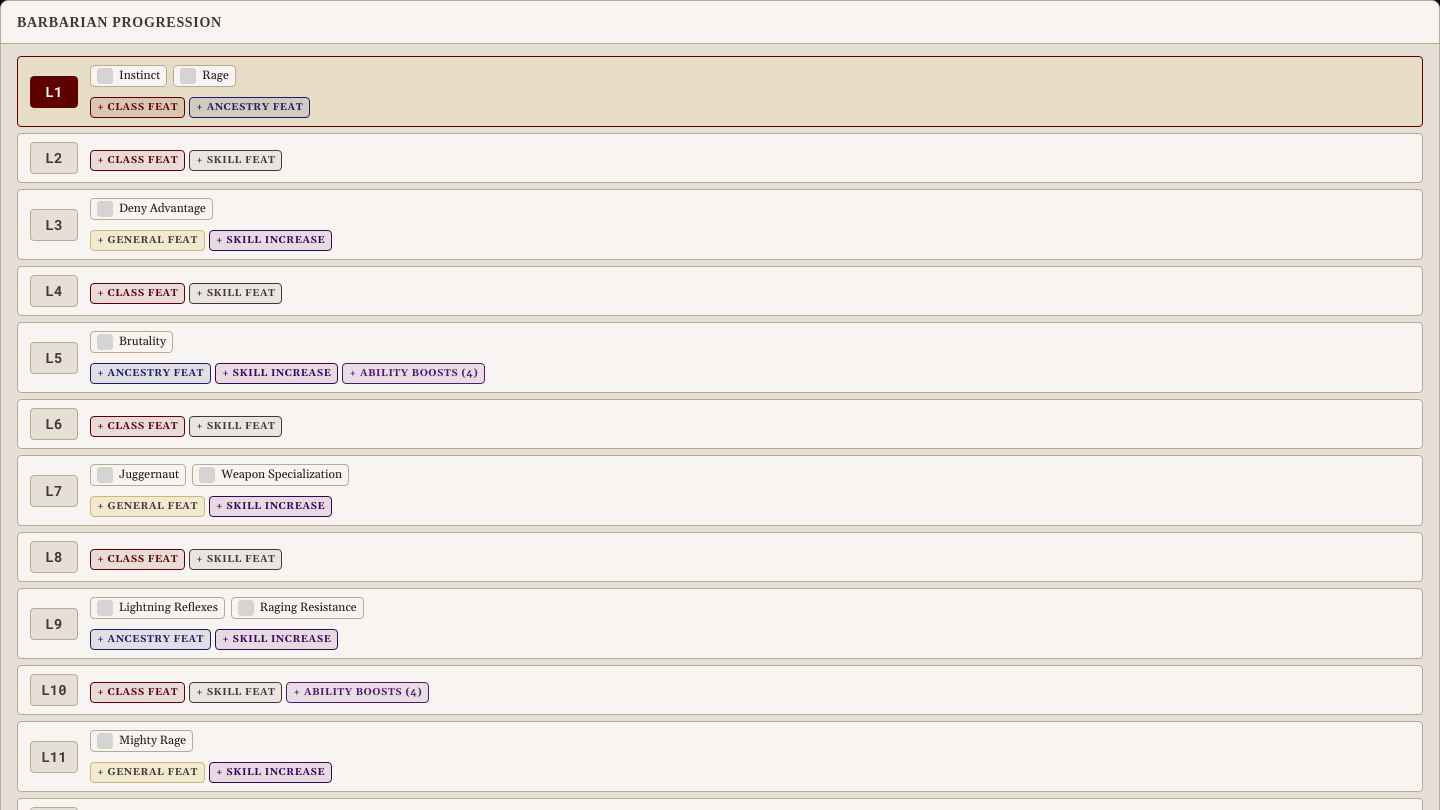
Test: Progression tab › clearing a picked feat restores the open slot chip
Click the button with test id "slot-open-picker".
click(138, 108)  # box [90,97,185,118]
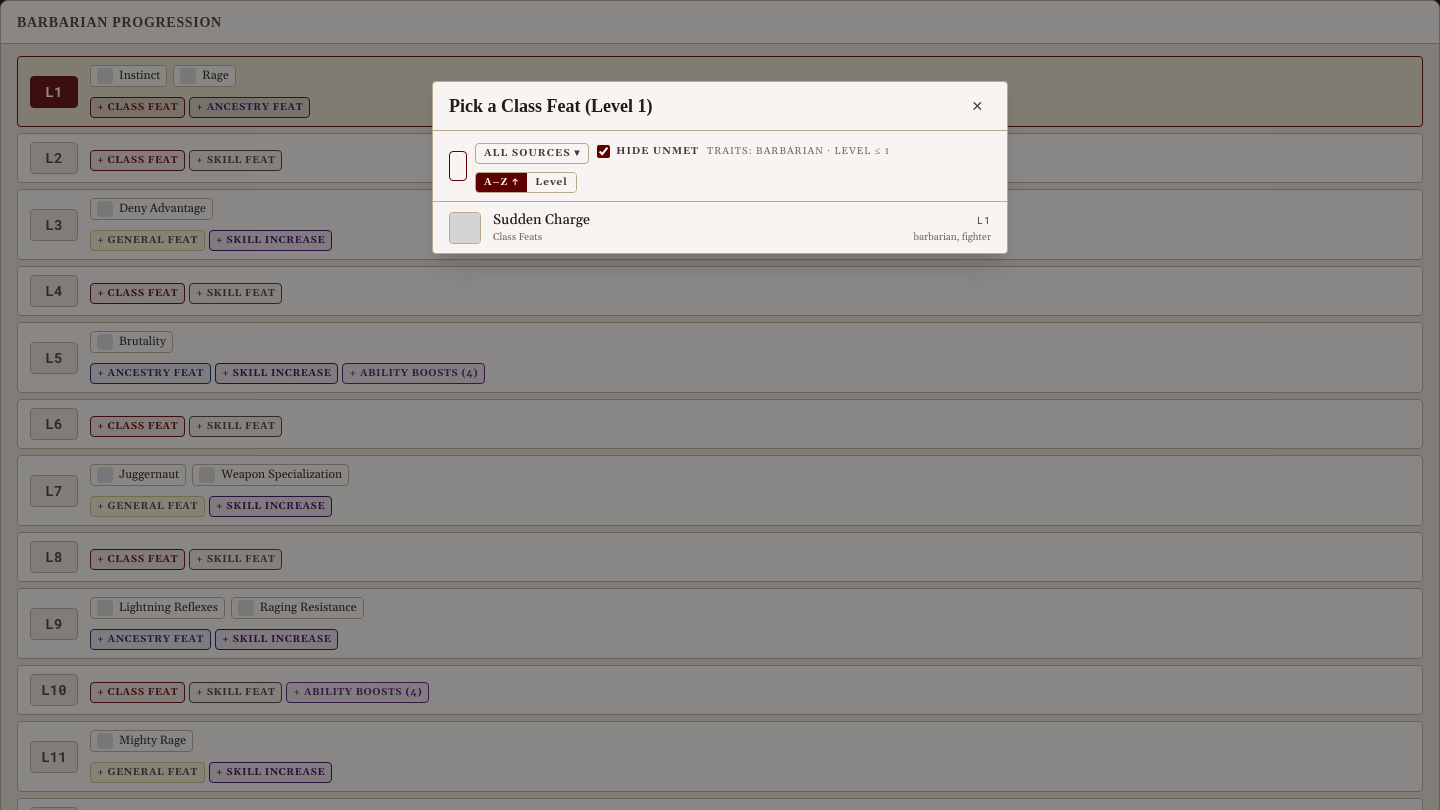
Check: the button "Sudden Charge L1 Class Feats barbarian, fighter" is shown
Click the button "Sudden Charge L1 Class Feats barbarian, fighter".
click(465, 228)  # box [433,202,1007,253]
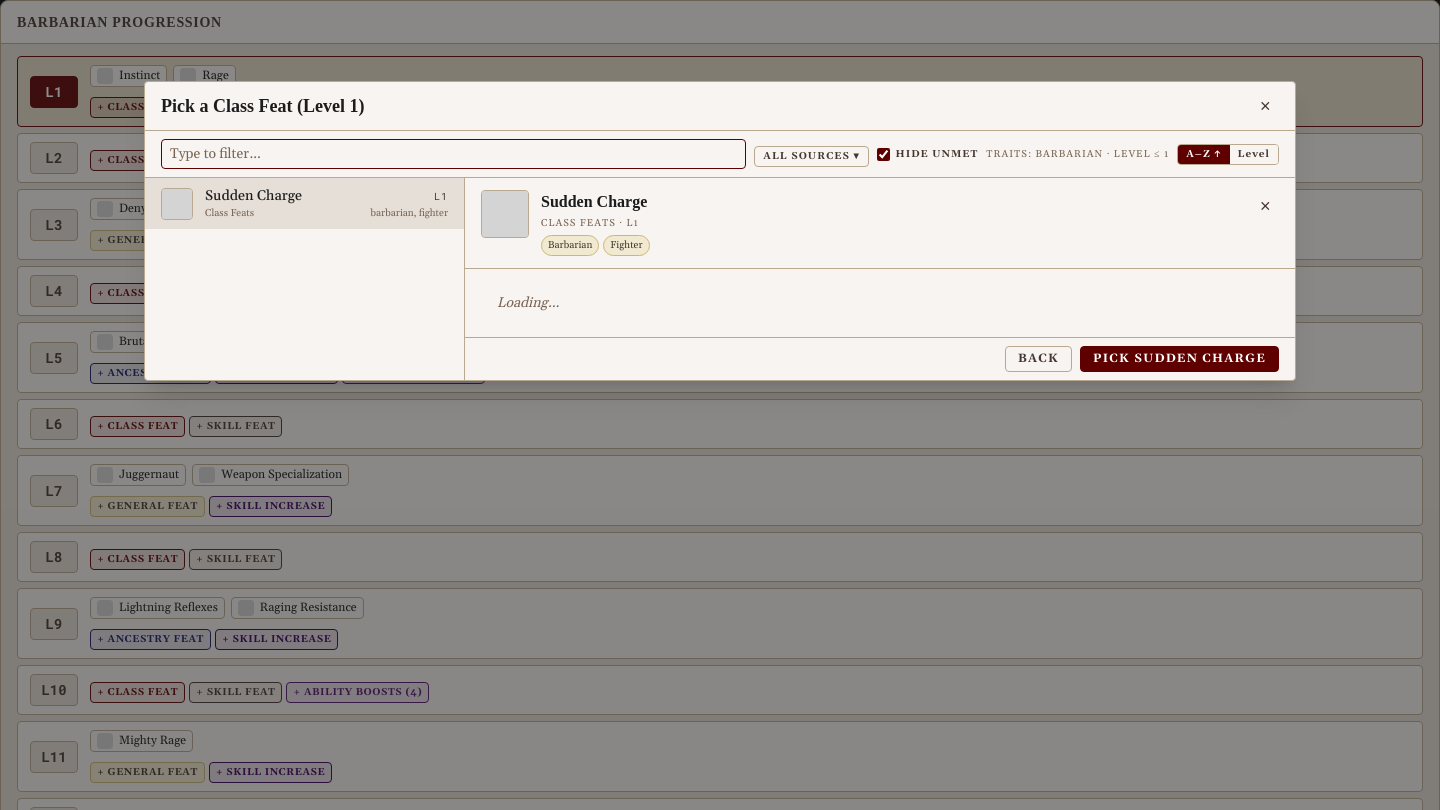
Check: the element with test id "feat-picker-detail" is shown, box [465,178,1295,380]
Click the button with test id "feat-picker-pick".
click(1180, 359)  # box [1080,346,1279,372]
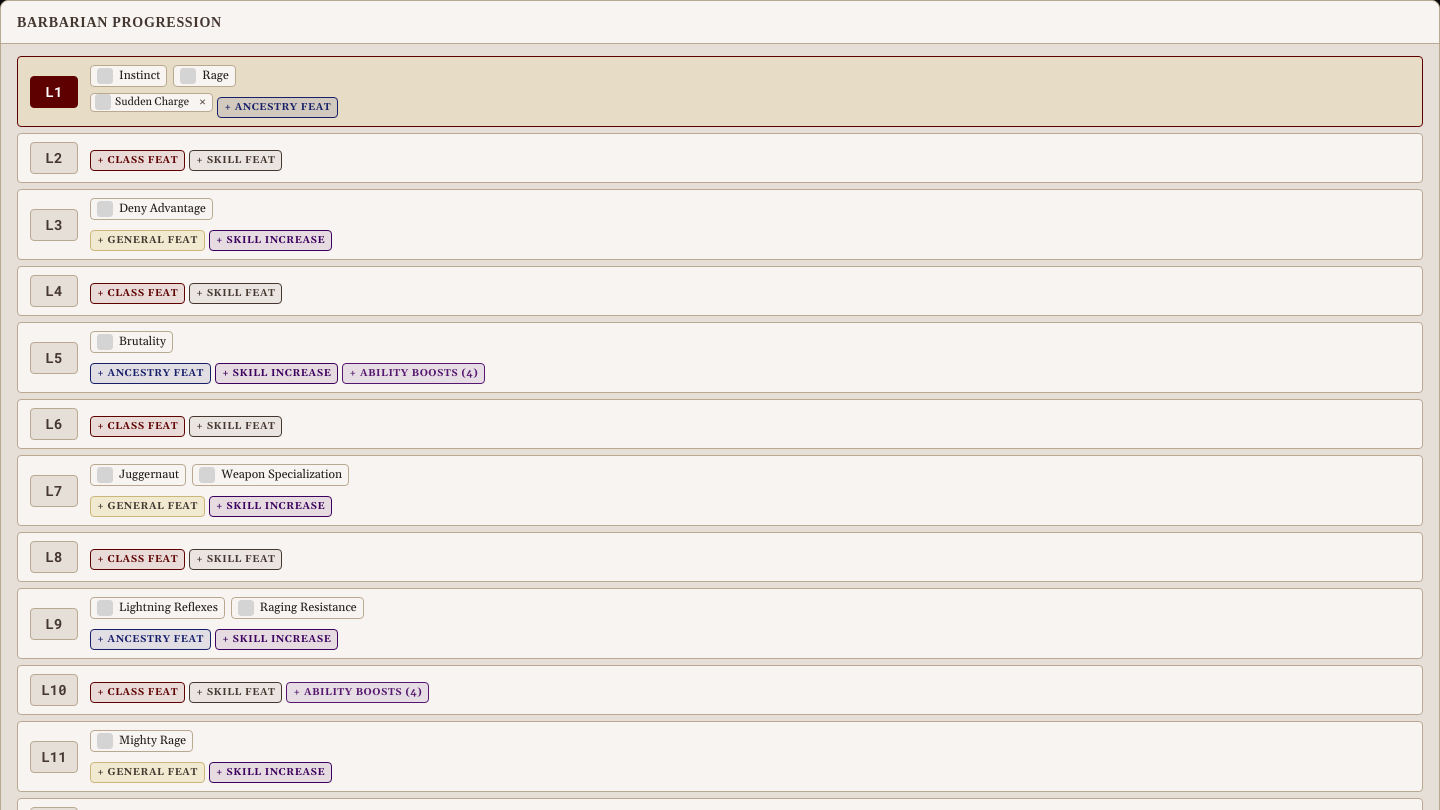
Check: the dialog with test id "feat-picker" is gone
Check: the element showing "Sudden Charge ×" is shown, box [90,93,213,112]
Click the button named "clear class feat pick".
click(203, 102)  # box [195,94,210,110]
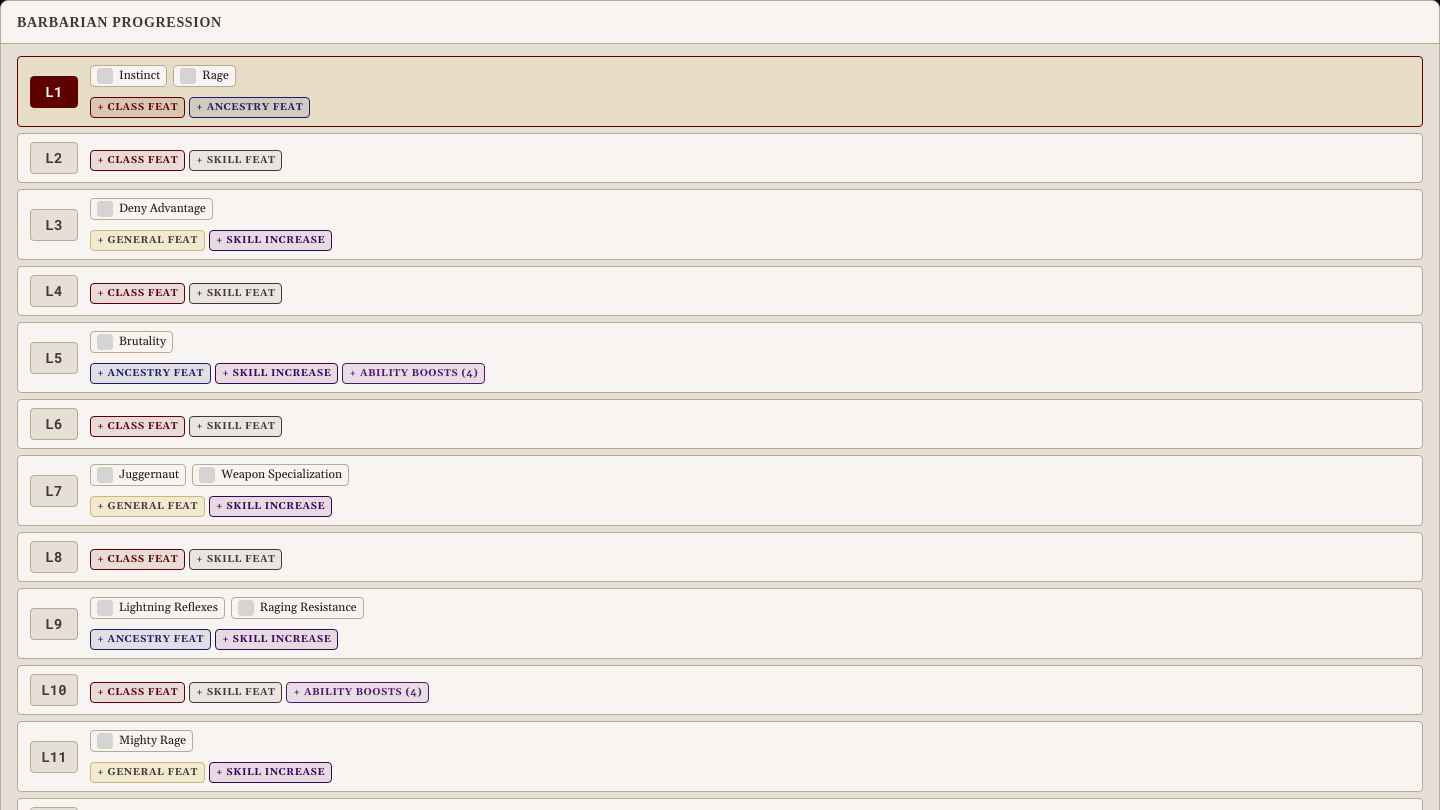
Check: the button with test id "slot-open-picker" is shown, box [90,97,185,118]
